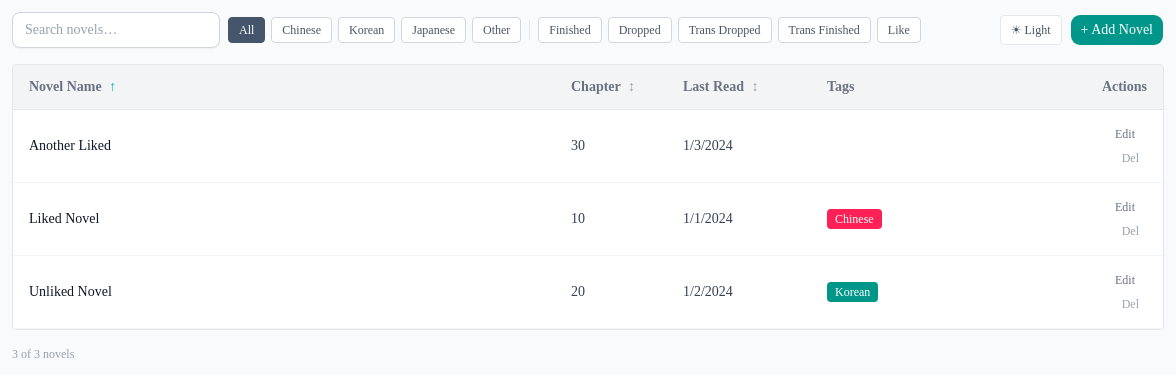
Like filter › shows empty state when no novels are liked and filter is active
Click the button "Like" at (899, 30), box [877,17,921,43]
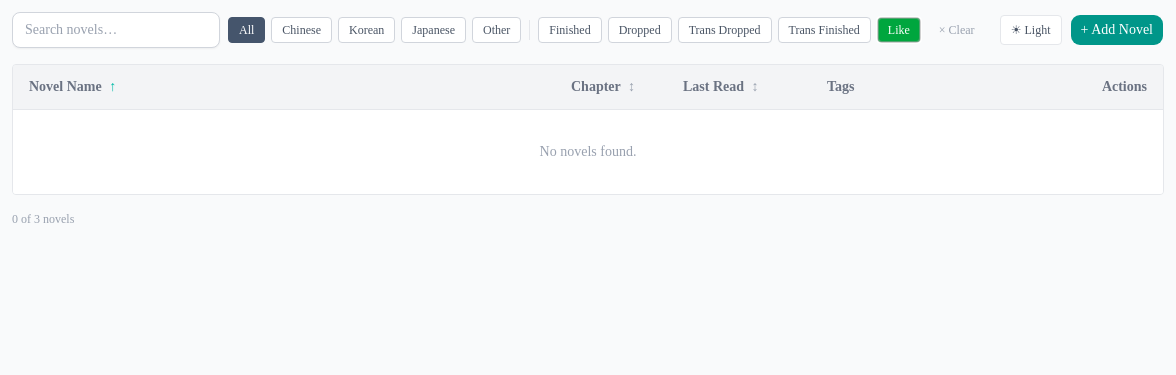
Result: the text "No novels found." is shown at [13,110,1163,194]
